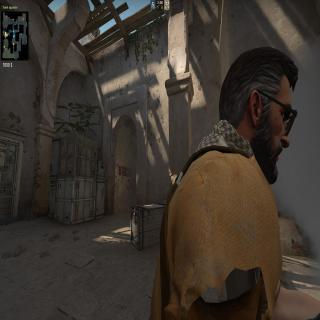T-Head: (217, 39, 301, 192)
